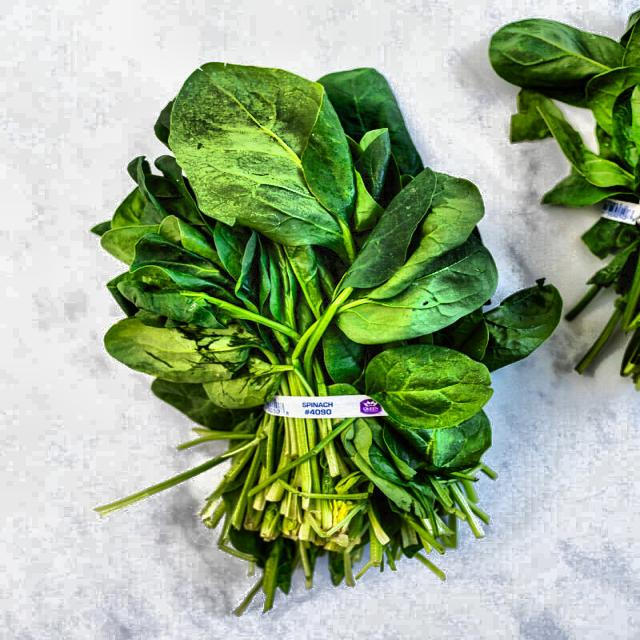spinach: (38, 16, 640, 604)
